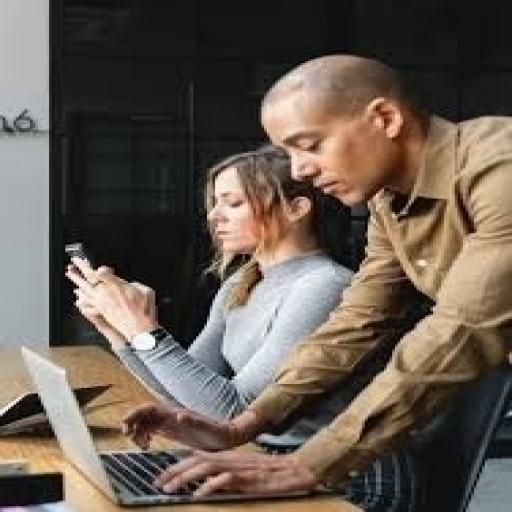using_laptop: (16, 344, 322, 506)
